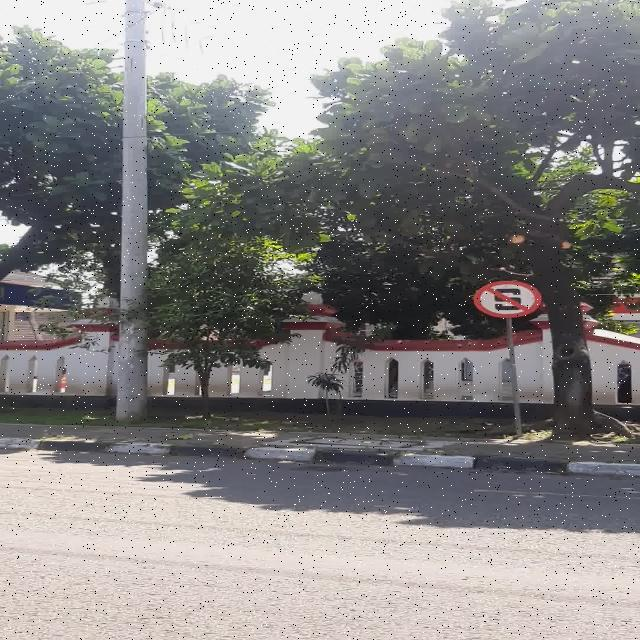Dilarang Berhenti: (473, 280, 542, 318)
